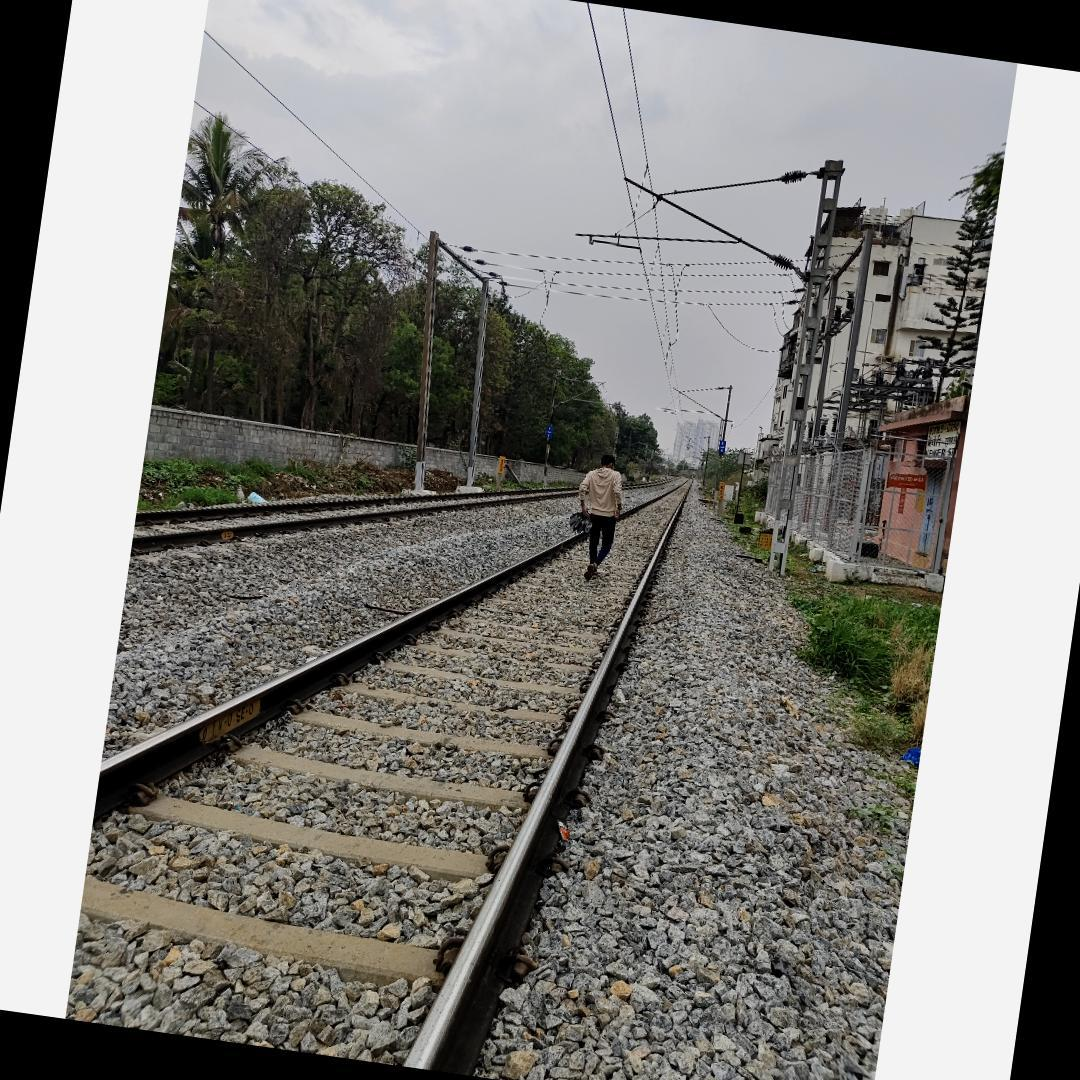standing: (563, 447, 629, 582)
track: (66, 471, 708, 1078)
